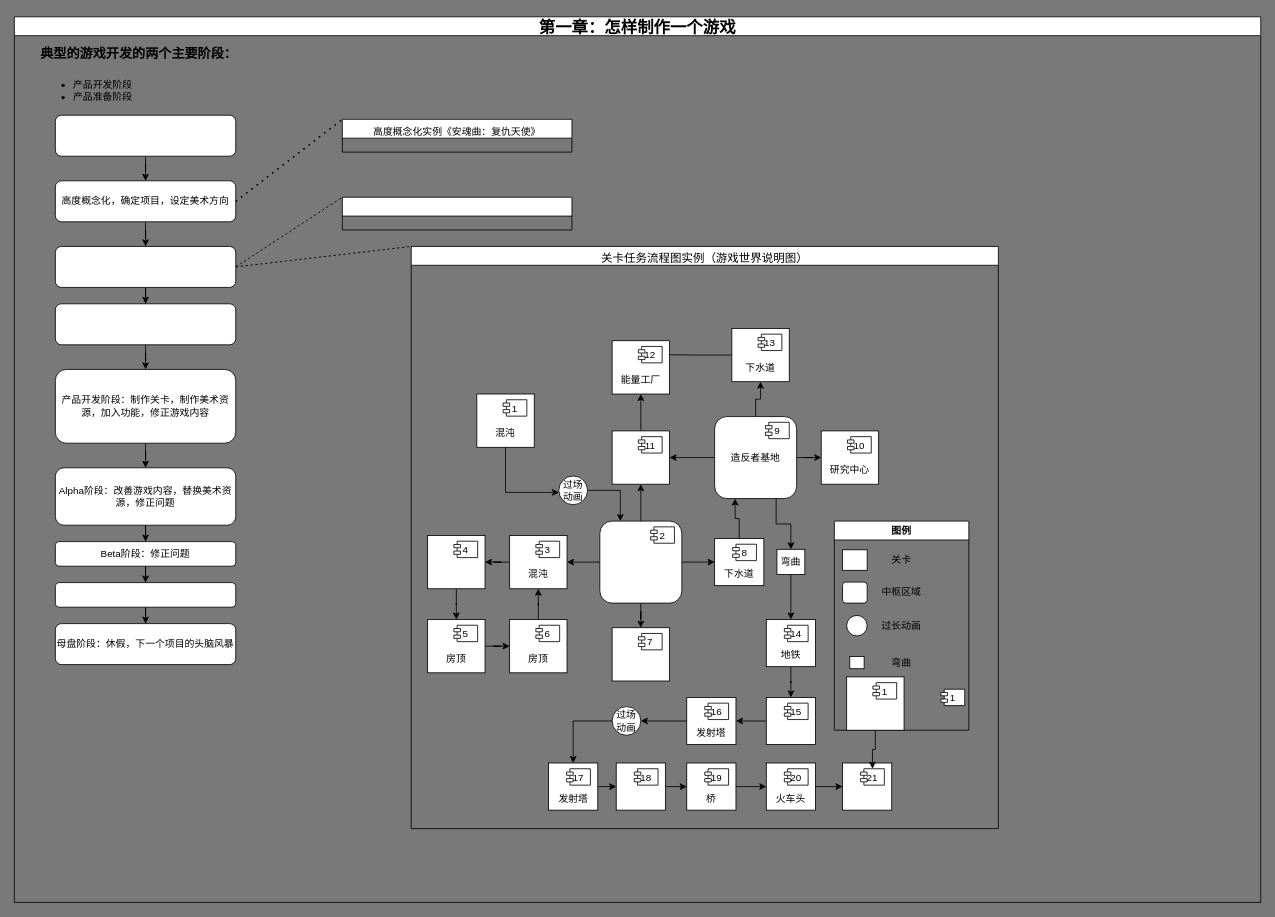
The diagram is 1275 pixels wide and 917 high, and some of its shapes have lost their labels. Each missing label, with the box of its shape:
XX: (846, 676, 904, 730)
产品准备阶段：进行头脑风暴: (55, 114, 236, 156)
兵营: (615, 762, 665, 810)
医院: (611, 627, 670, 681)
原型版本/演示版本：建立开发技术，制作开发工具: (55, 303, 236, 345)
大本营: (765, 697, 815, 745)
旅馆: (427, 535, 485, 589)
旧城1: (599, 520, 682, 603)
最终候选版本：修正主要问题: (55, 582, 236, 607)
核心: (842, 762, 892, 810)
用来确认功能和流程确认的菜单图: (342, 196, 572, 230)
简陋的街道: (611, 430, 670, 484)
设计文档，开发设计，制作世界地图: (55, 246, 236, 287)
